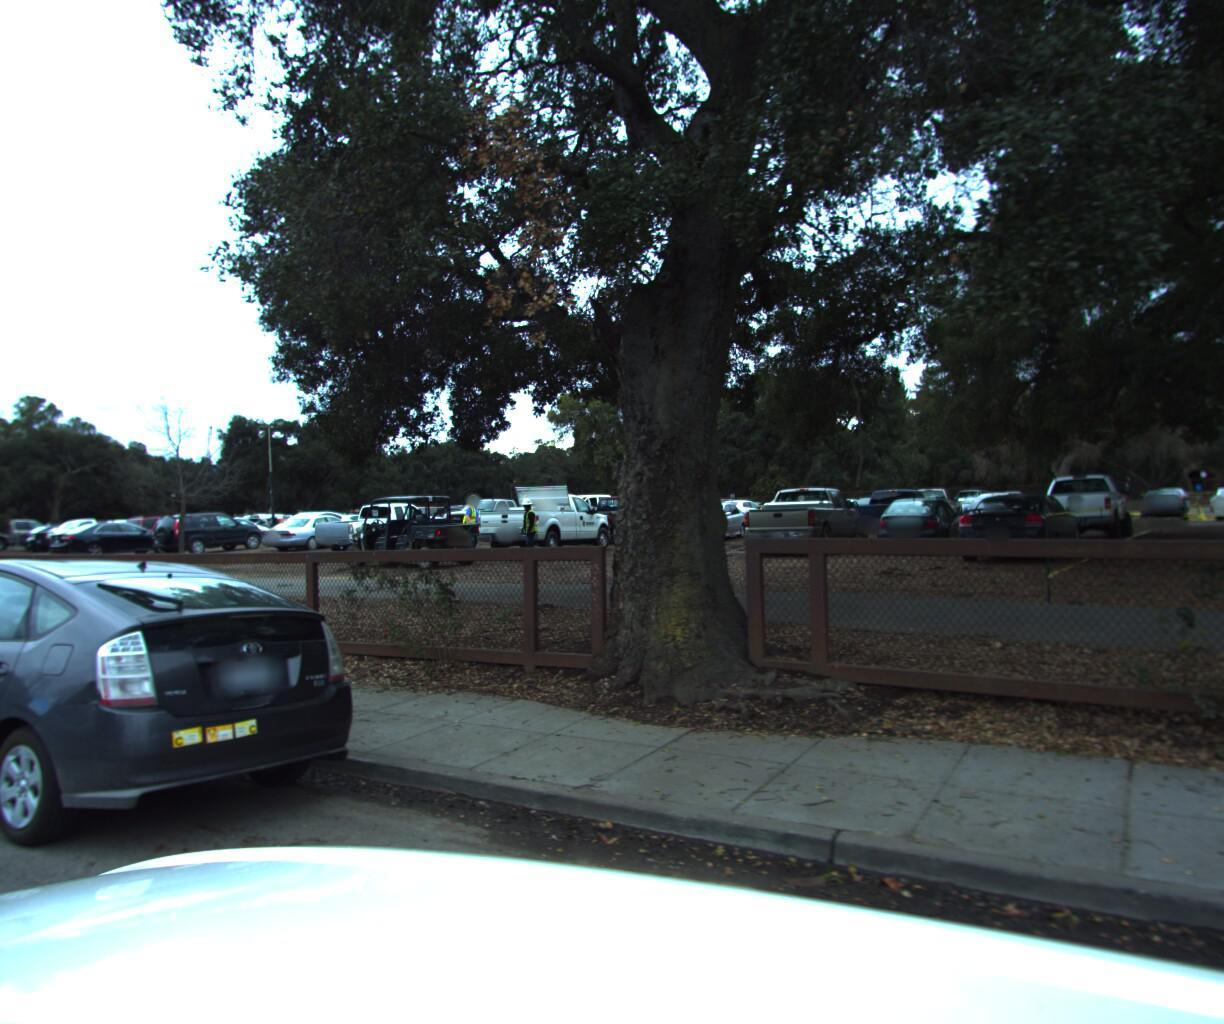car: (0, 545, 383, 919)
